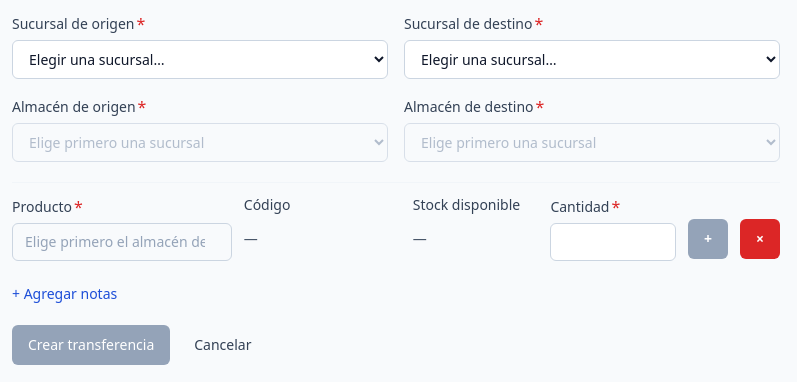
Test case: TransferForm › scopes each Almacén select to its own Sucursal, and resets the almacén when the sucursal changes
Select "Sucursal Central" in the dropdown labelled "Sucursal de origen" at coordinates (200, 60), box 12,40 -> 388,79
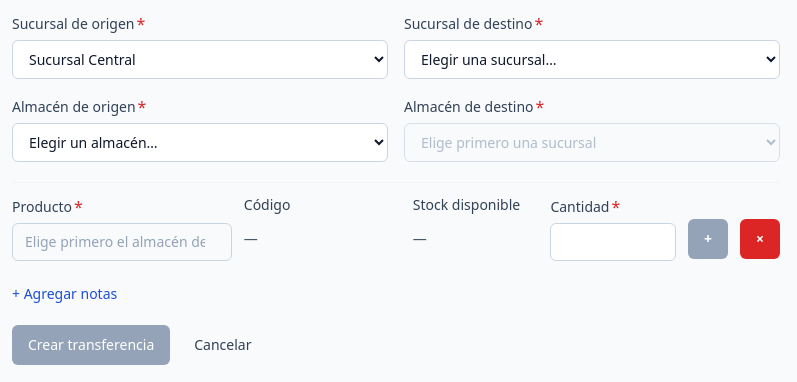
Result: the dropdown labelled "Almacén de origen" is enabled
Select "Central / General" in the dropdown labelled "Almacén de origen" at coordinates (200, 142), box 12,123 -> 388,162
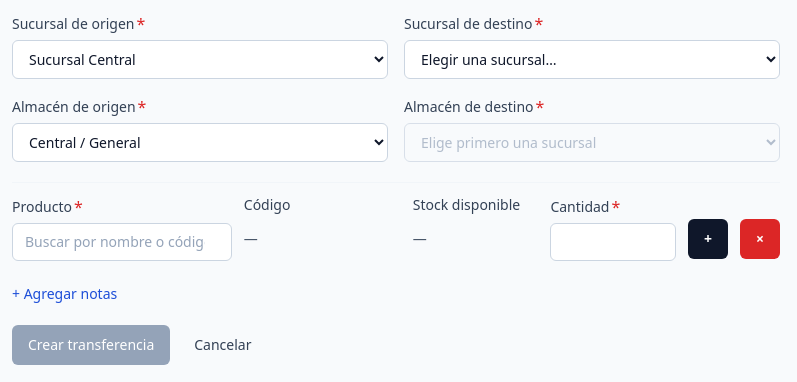
Select "Sucursal Norte" in the dropdown labelled "Sucursal de origen" at coordinates (200, 60), box 12,40 -> 388,79
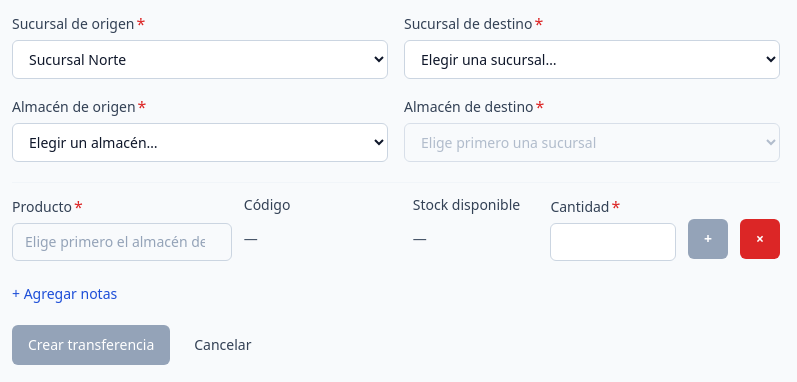
Expected: the dropdown labelled "Almacén de destino" is disabled, 404,123 -> 780,162
Select "Sucursal Central" in the dropdown labelled "Sucursal de destino" at coordinates (592, 60), box 404,40 -> 780,79
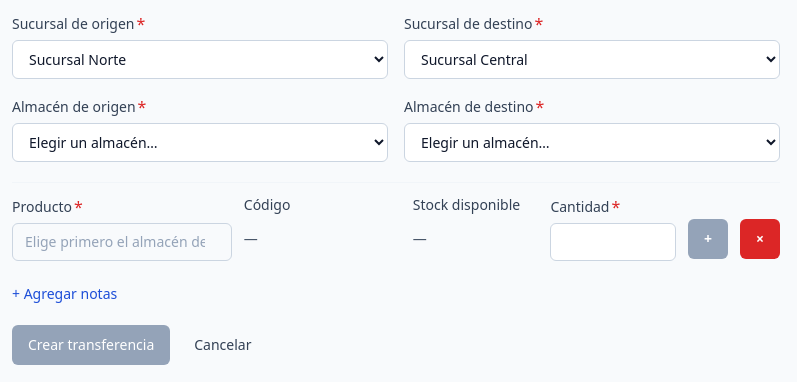
Result: the dropdown labelled "Almacén de destino" is enabled at 404,123 -> 780,162
